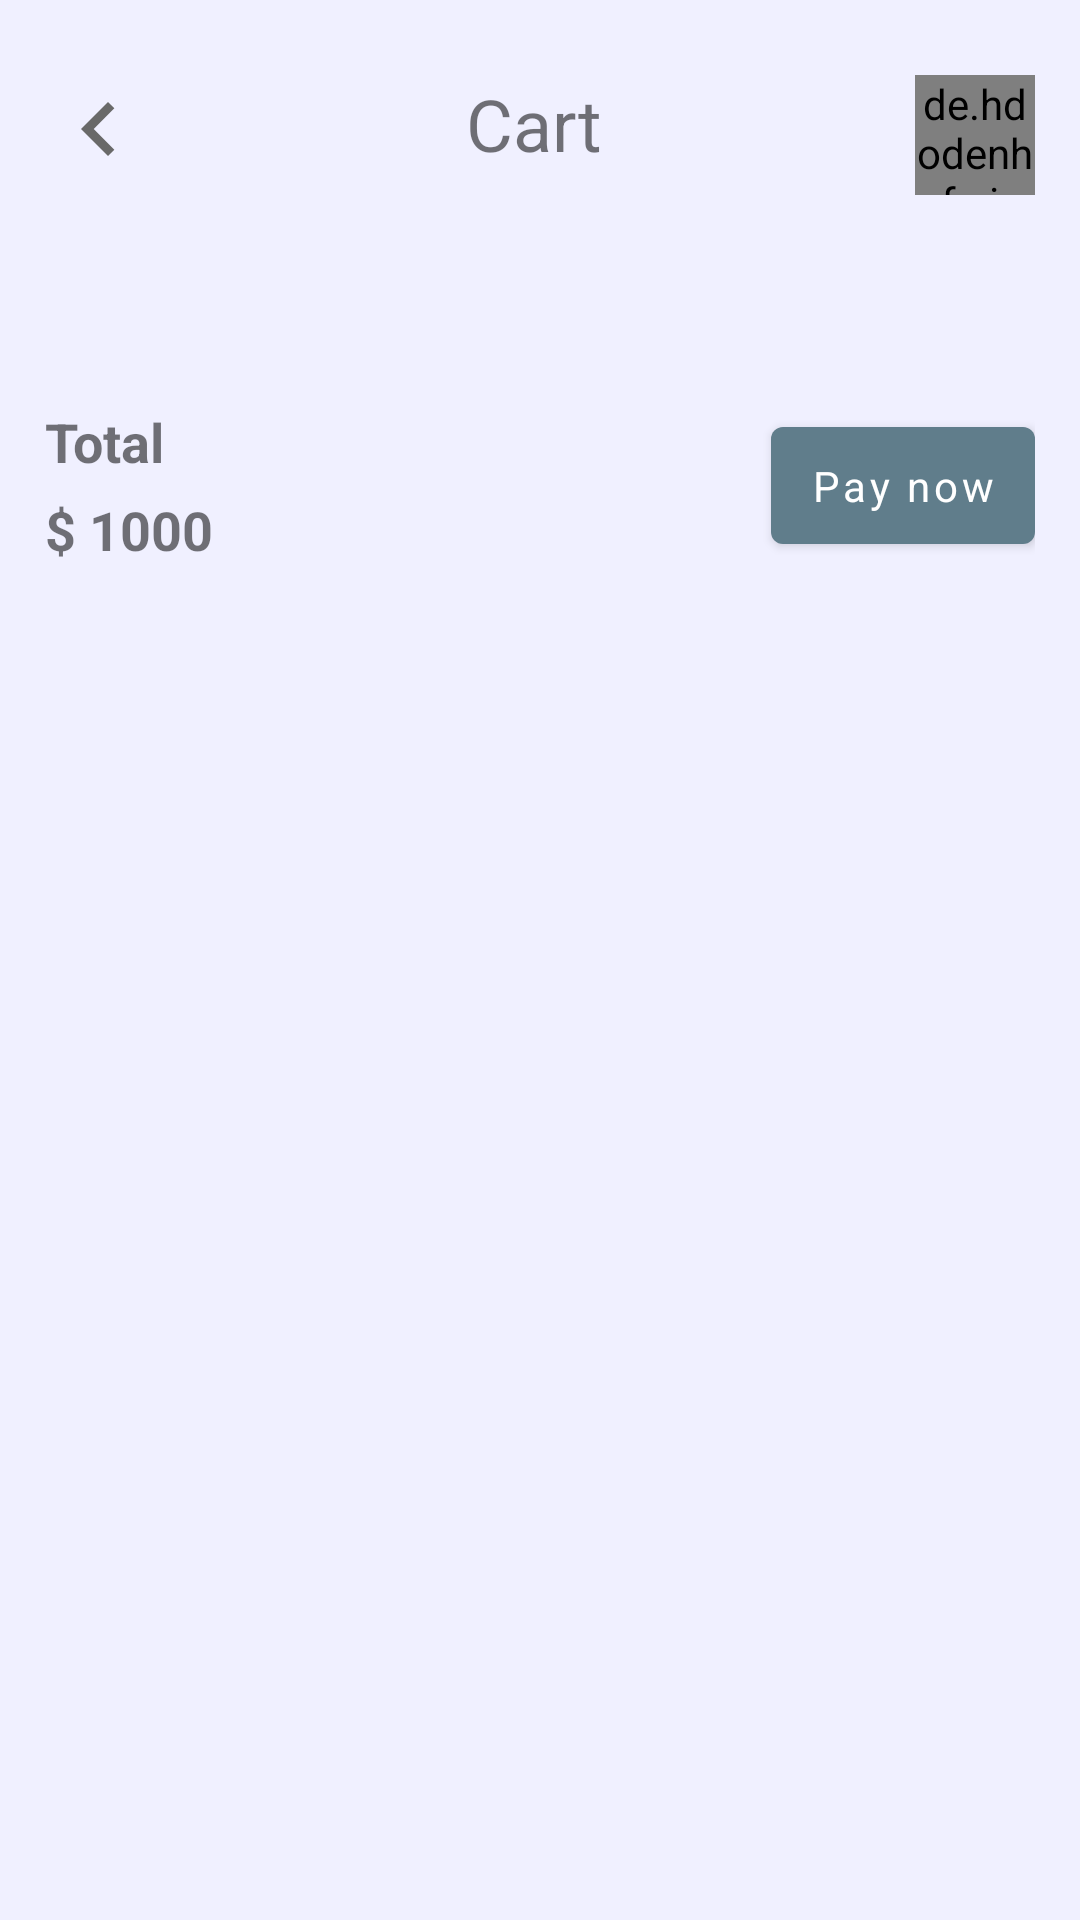

Screen size 1080 × 1920. Icon name, then its center in pixels as (x,y):
navigate before: (97,129)
